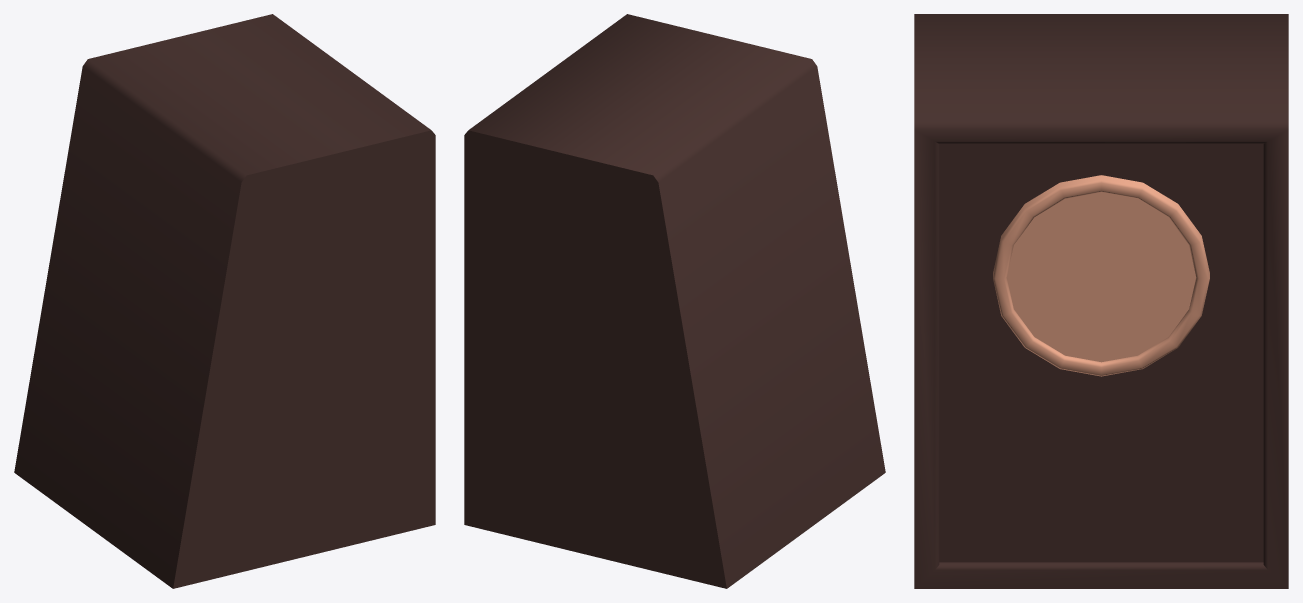
The model's file is mesh_SpeakerS.fbx.
3 views of the same model, side by side, from view 1: azimuth 30°, elevation 25°; view 2: azimuth 150°, elevation 25°; view 3: azimuth 270°, elevation 25° (orthographic). The views are drawn at different scales.
Parts seen in each view (by area): view 1: SpeakerS; view 2: SpeakerS; view 3: SpeakerS.
Boxes of the visible parts, left/top/right/bottom form: SpeakerS: left=14, top=14, right=435, bottom=588; SpeakerS: left=464, top=14, right=885, bottom=588; SpeakerS: left=914, top=14, right=1288, bottom=588.
Bounding box in the file's own units: 54.81 × 77.95 × 56.75.
